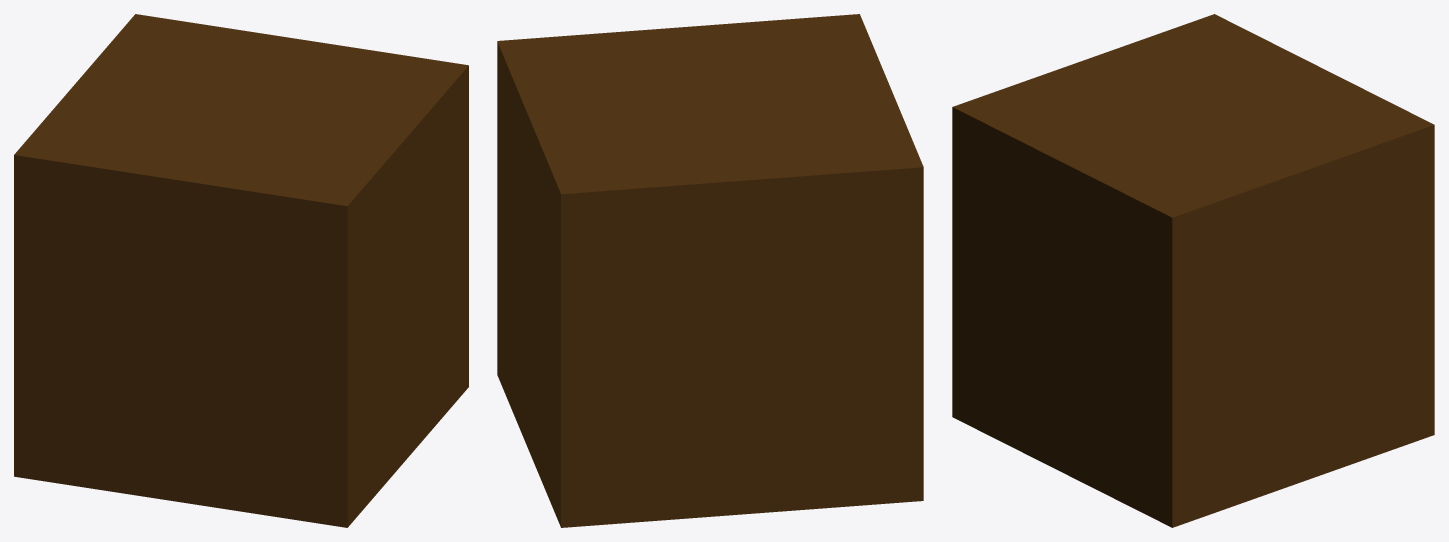
The model's file is Kasse.fbx.
3 views of the same model, side by side, from view 1: azimuth 30°, elevation 25°; view 2: azimuth 150°, elevation 25°; view 3: azimuth 270°, elevation 25° (orthographic). The views are drawn at different scales.
Visible parts, largest first — view 1: Kasse; view 2: Kasse; view 3: Kasse.
Part boxes in pixels (left/top/right/bottom): Kasse: left=14, top=14, right=468, bottom=527; Kasse: left=497, top=14, right=923, bottom=527; Kasse: left=952, top=14, right=1434, bottom=527.
Bounding box in the file's own units: 45.41 × 32.23 × 45.41.
